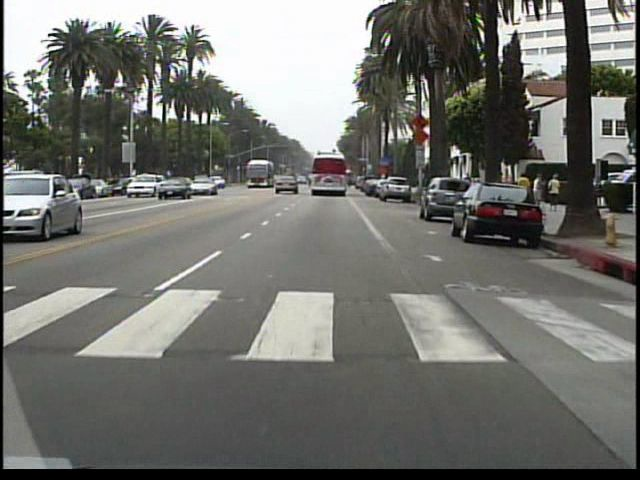person: (461, 172, 475, 202)
